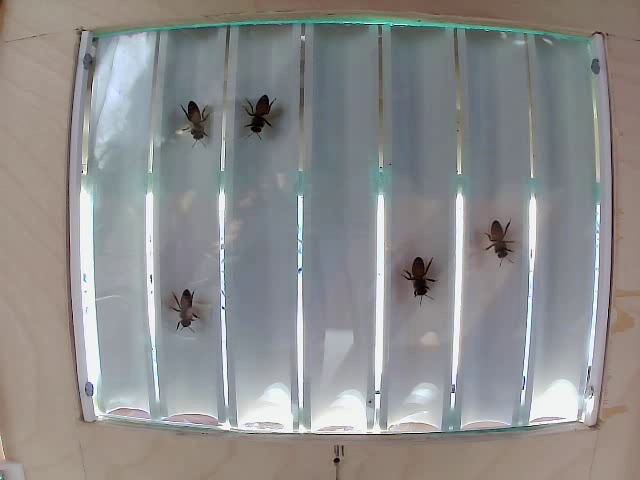bee: (397, 250, 441, 294), (247, 99, 288, 145), (158, 280, 205, 319), (474, 209, 511, 257), (172, 108, 215, 141)
